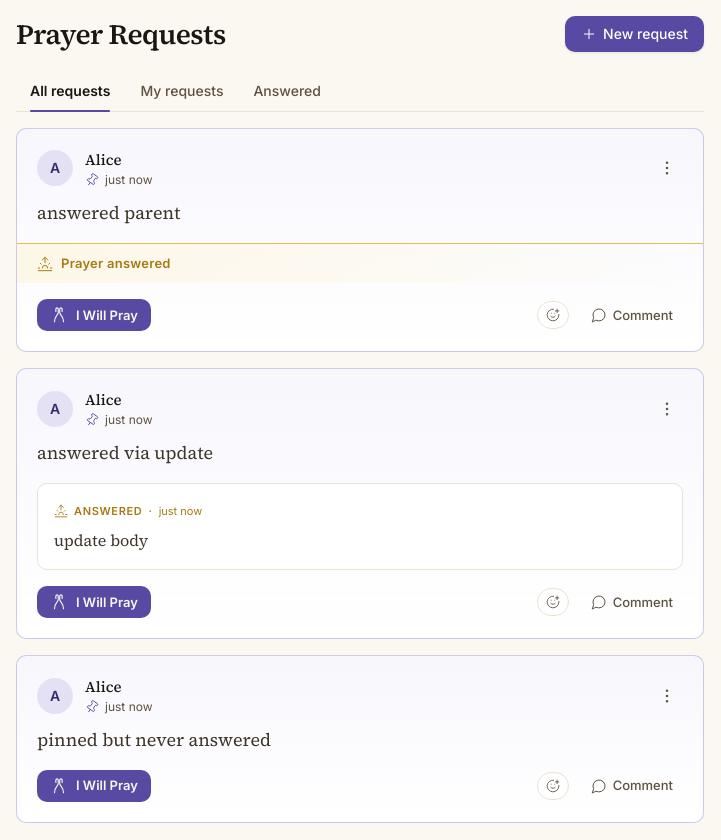
Test: FeedPage › hides pinned posts that do not contain answered prayers under the Answered filter
Expected: the text "pinned but never answered" is shown, x1=37 y1=727 x2=271 y2=752
Click the tab "Answered" at (287, 91), box x1=239 y1=71 x2=335 y2=111
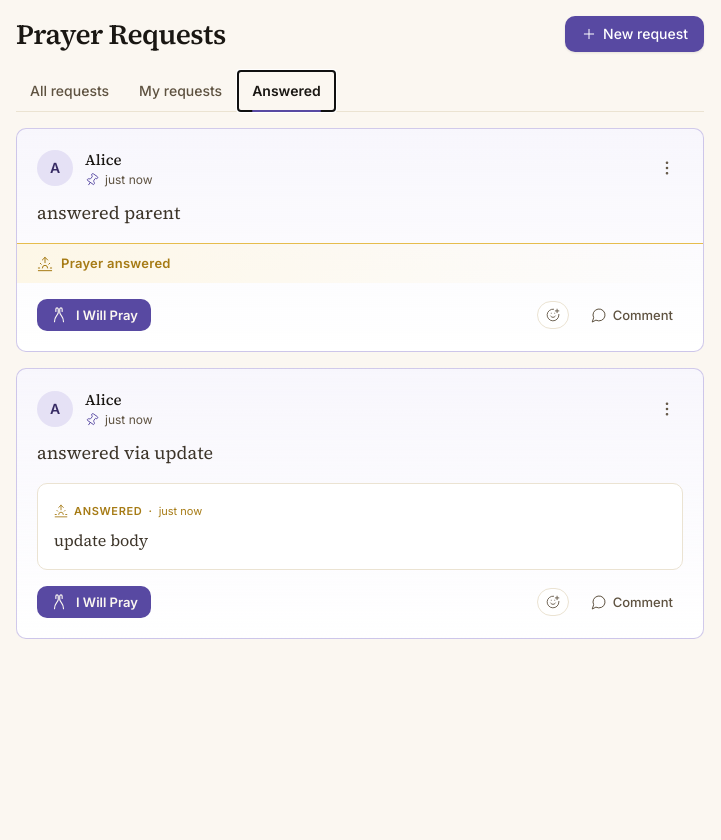
Expected: the text "answered parent" is shown, x1=37 y1=200 x2=180 y2=224
Expected: the text "pinned but never answered" is gone
